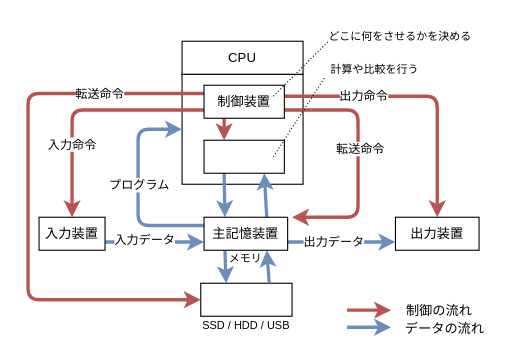
Image size: 508x364. Some labels were removed from this diagram. Each missing label, with the centre of its shape:
"演算装置" goes at [243,156].
"補助記憶装置" goes at [246,299].
